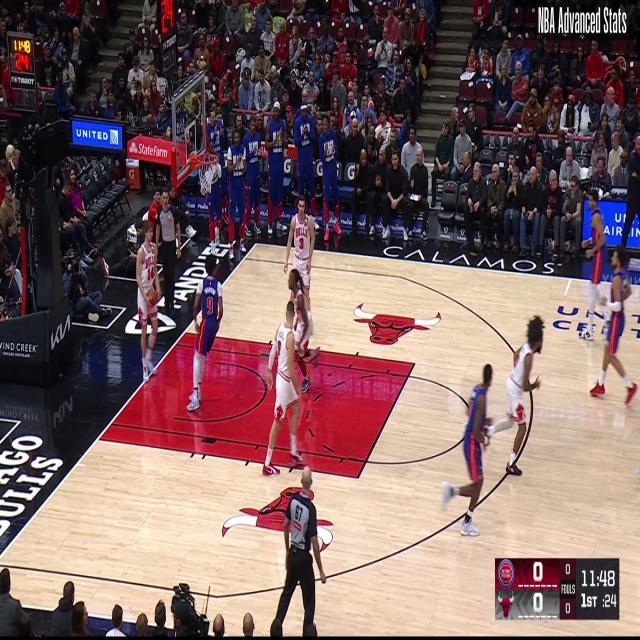ball: (145, 283, 161, 313)
player: (482, 313, 546, 478), (440, 361, 494, 539), (260, 298, 306, 478), (574, 188, 618, 346), (600, 248, 638, 422), (184, 252, 224, 414), (282, 197, 322, 351), (281, 264, 319, 396), (134, 218, 162, 384)
